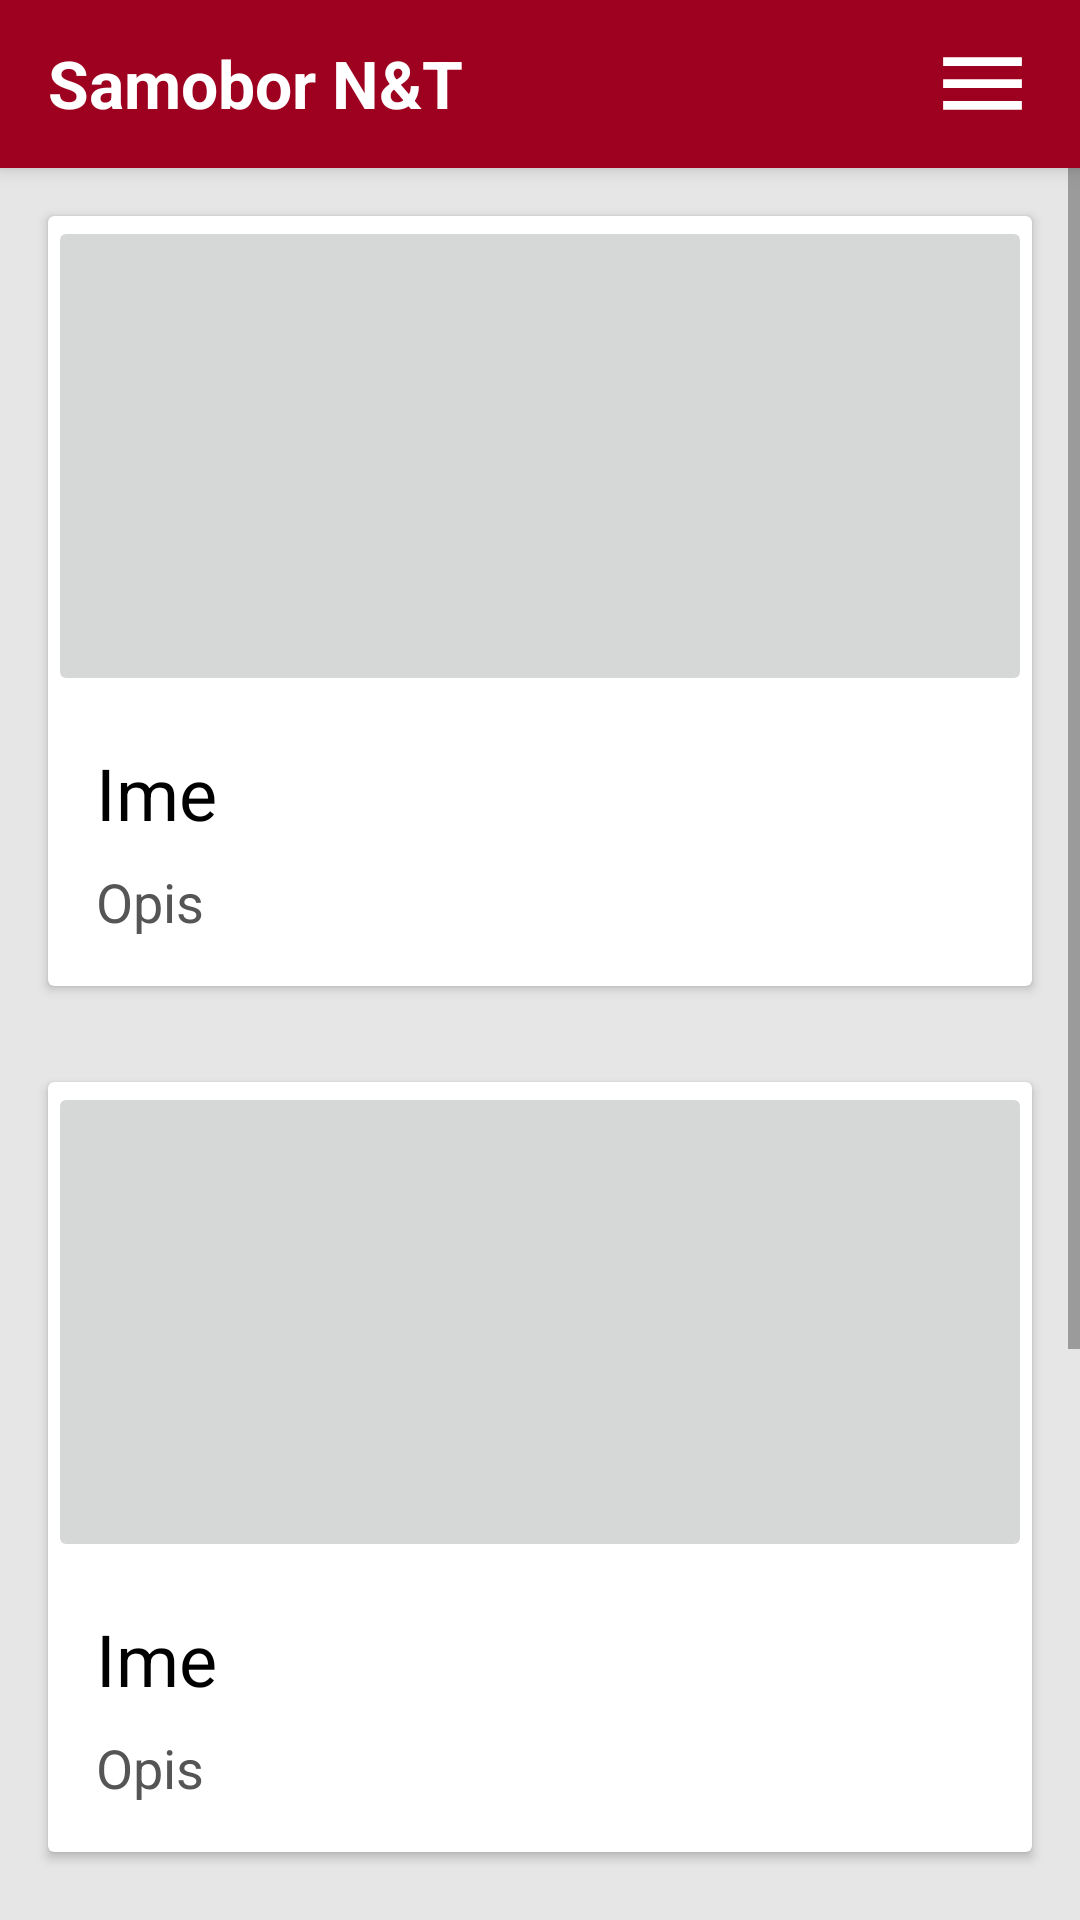

Locate icon controls on the screen. Image size 1080 x 1920, boxes as (x1, y1, x2, y2).
menu: (943, 57, 1022, 110)
